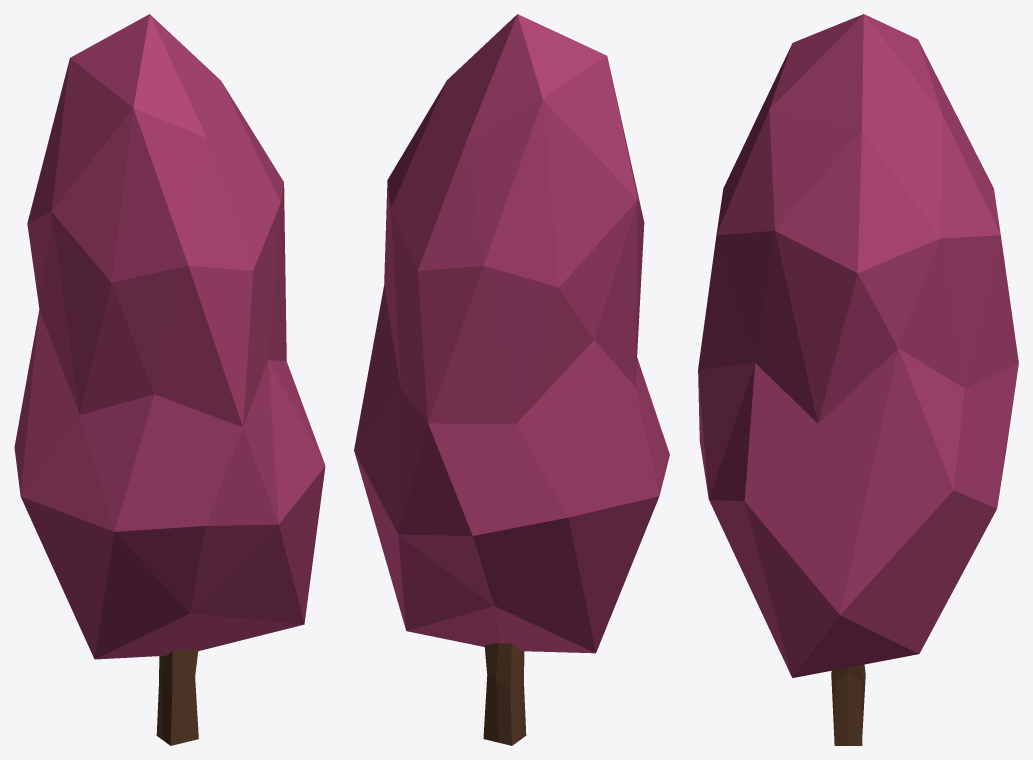
Rendered from Tree_60_Pink.fbx.
3 renders of one model, left to right at view 1: azimuth 30°, elevation 25°; view 2: azimuth 150°, elevation 25°; view 3: azimuth 270°, elevation 25°, orthographic. The views are drawn at different scales.
Parts seen in each view (by area): view 1: Tree_60_Pink_Part_1, Tree_60_Pink_Part_2; view 2: Tree_60_Pink_Part_1, Tree_60_Pink_Part_2; view 3: Tree_60_Pink_Part_1, Tree_60_Pink_Part_2.
Boxes of the visible parts, box(x1,y1,x2,y2) form: Tree_60_Pink_Part_1: box(14, 14, 325, 659); Tree_60_Pink_Part_2: box(156, 649, 198, 745); Tree_60_Pink_Part_1: box(354, 14, 669, 653); Tree_60_Pink_Part_2: box(483, 643, 526, 745); Tree_60_Pink_Part_1: box(698, 14, 1018, 677); Tree_60_Pink_Part_2: box(831, 664, 865, 745).
Bounding box in the file's own units: 327 × 788 × 320.
